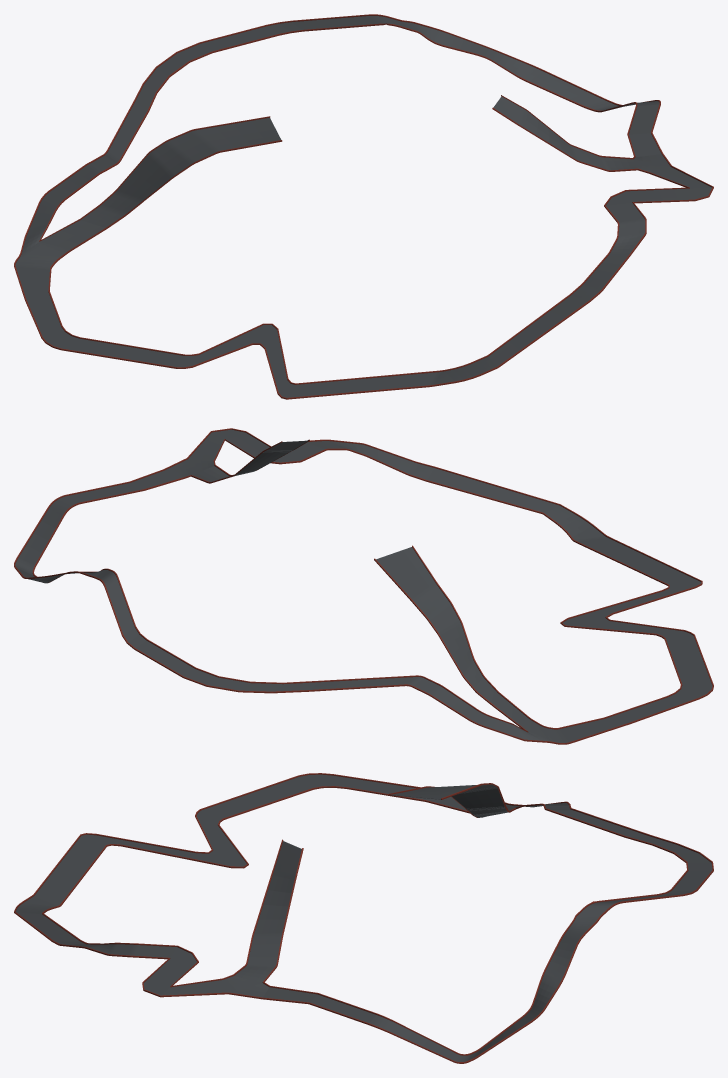
The model's file is Track1Volcano.glb.
The picture shows the model from 3 angles, top to bottom: view 1: azimuth 30°, elevation 25°; view 2: azimuth 150°, elevation 25°; view 3: azimuth 270°, elevation 25°; orthographic projection. The views are drawn at different scales.
Visible parts, largest first — view 1: VolcanicTrack; view 2: VolcanicTrack; view 3: VolcanicTrack.
Part boxes in pixels (x1,y1,x2,y2): VolcanicTrack: (14, 14, 713, 399); VolcanicTrack: (14, 428, 713, 744); VolcanicTrack: (14, 773, 713, 1063).
Size of the model in its own units: 5.53 by 1.19 by 5.09.
